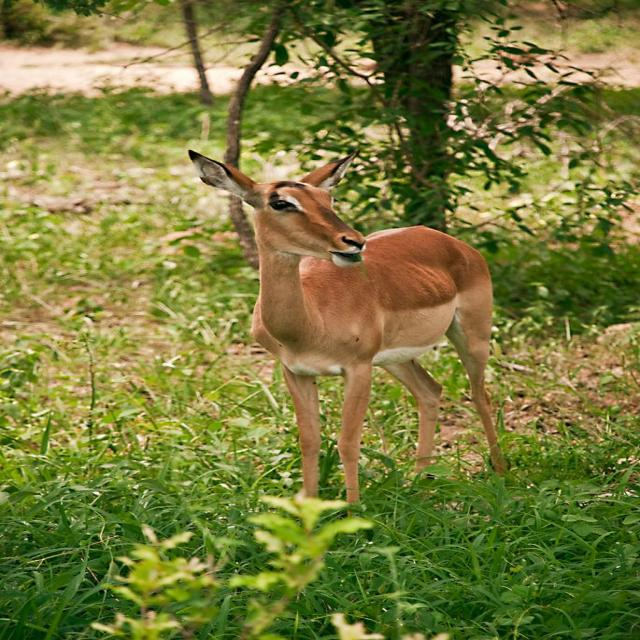Deer: (190, 154, 506, 518)
